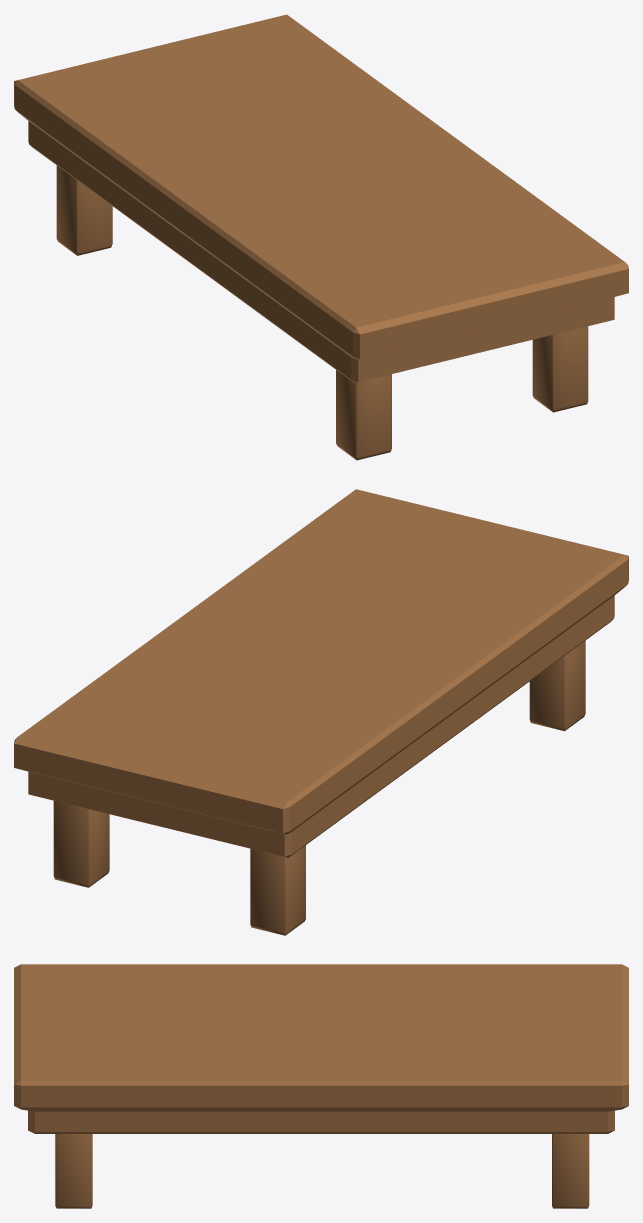
The model's file is Table4.fbx.
The picture shows the model from 3 angles, top to bottom: view 1: azimuth 30°, elevation 25°; view 2: azimuth 150°, elevation 25°; view 3: azimuth 270°, elevation 25°; orthographic projection. The views are drawn at different scales.
Visible parts, largest first — view 1: Plane.004, Cube.019, Cube.018, Cube.021; view 2: Plane.004, Cube.021, Cube.020, Cube.019; view 3: Plane.004, Cube.018, Cube.020.
Part boxes in pixels (x1,y1,x2,y2): Plane.004: (14, 14, 628, 383); Cube.019: (336, 370, 391, 460); Cube.018: (532, 326, 588, 412); Cube.021: (56, 165, 112, 255); Plane.004: (14, 489, 628, 857); Cube.021: (250, 845, 305, 935); Cube.020: (53, 801, 109, 887); Cube.019: (529, 640, 585, 731); Plane.004: (14, 964, 628, 1133); Cube.018: (55, 1134, 92, 1208); Cube.020: (552, 1134, 589, 1208).
Bounding box in the file's own units: 165 × 87.32 × 359.
